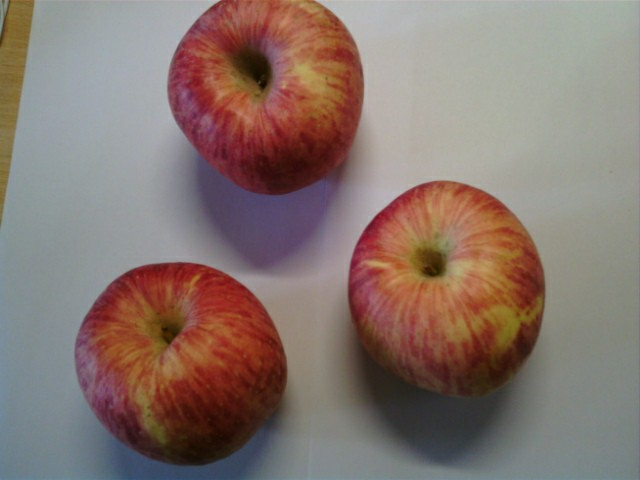normal_apple: (351, 178, 550, 401), (75, 264, 287, 465), (165, 1, 366, 193)
